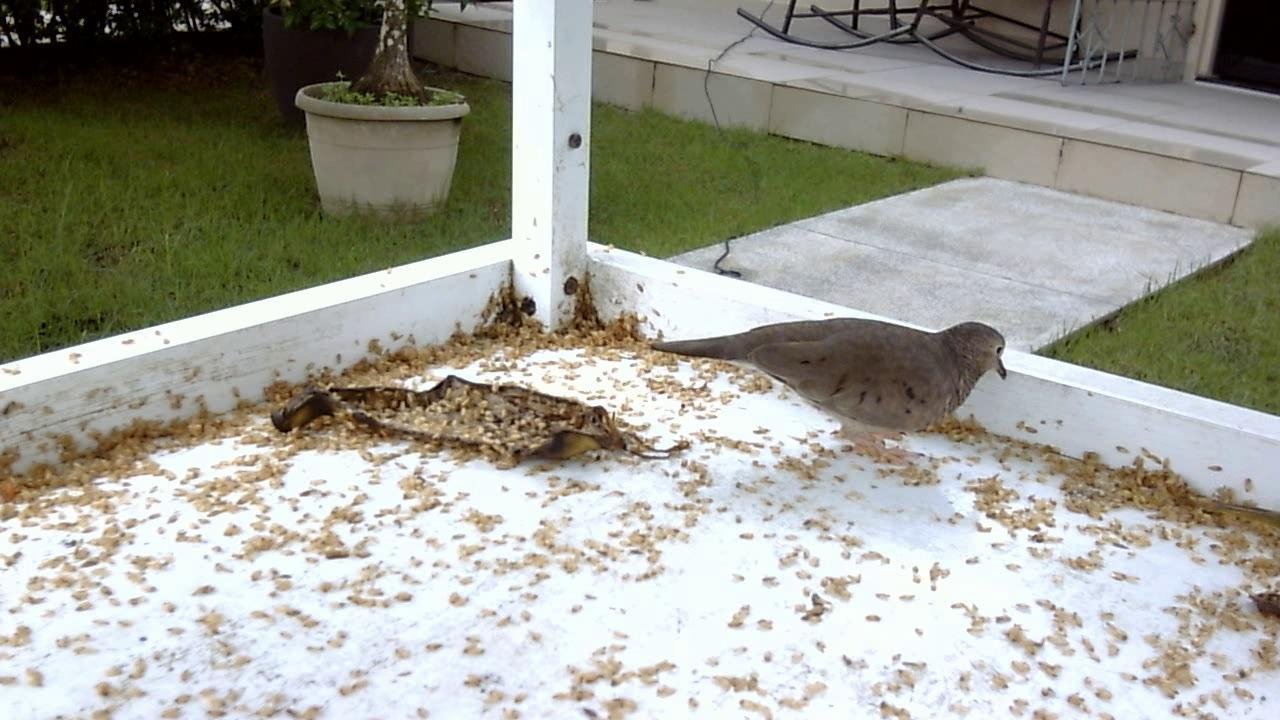rolinha: (628, 296, 1013, 464)
